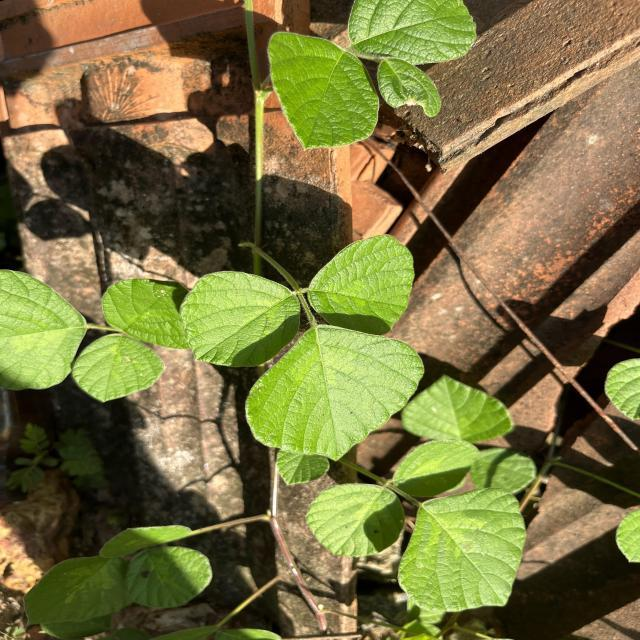Pseudarthria viscida: (178, 232, 428, 463), (304, 438, 528, 614)
